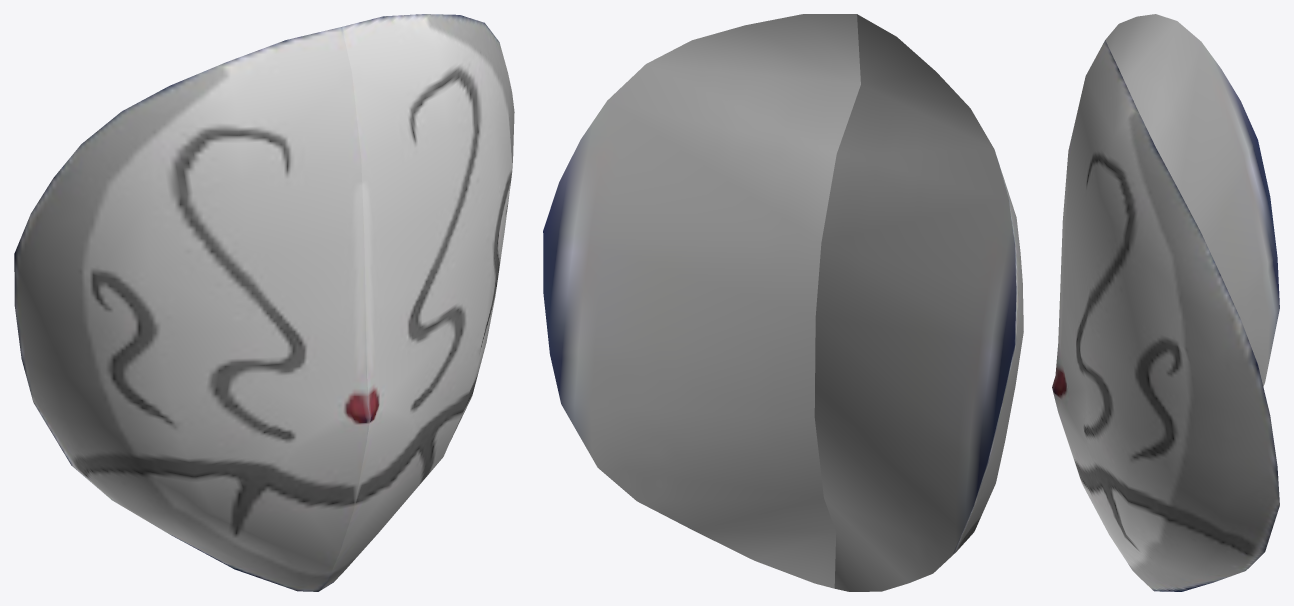
Rendered from Mask.fbx.
3 renders of one model, left to right at view 1: azimuth 30°, elevation 25°; view 2: azimuth 150°, elevation 25°; view 3: azimuth 270°, elevation 25°, orthographic. The views are drawn at different scales.
Parts seen in each view (by area): view 1: RimuruTempestMask; view 2: RimuruTempestMask; view 3: RimuruTempestMask.
Part boxes in pixels (x1,y1,x2,y2): RimuruTempestMask: [14, 14, 514, 591]; RimuruTempestMask: [543, 14, 1023, 591]; RimuruTempestMask: [1052, 14, 1279, 591].
Size of the model in its own units: 196 by 222 by 84.17.
1 material, 1 textured.
